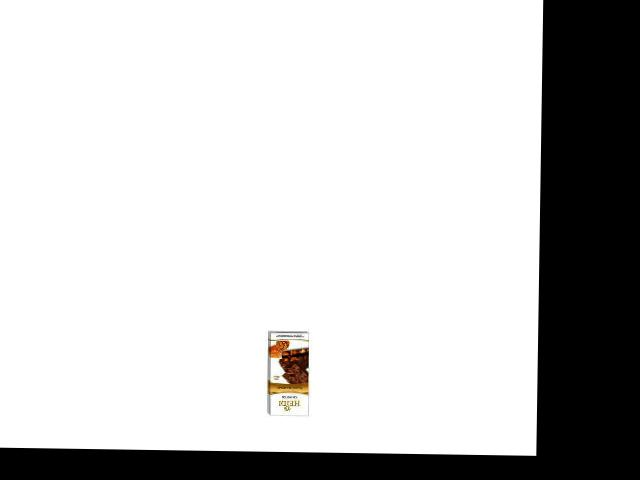chocolate: (264, 328, 310, 419)
